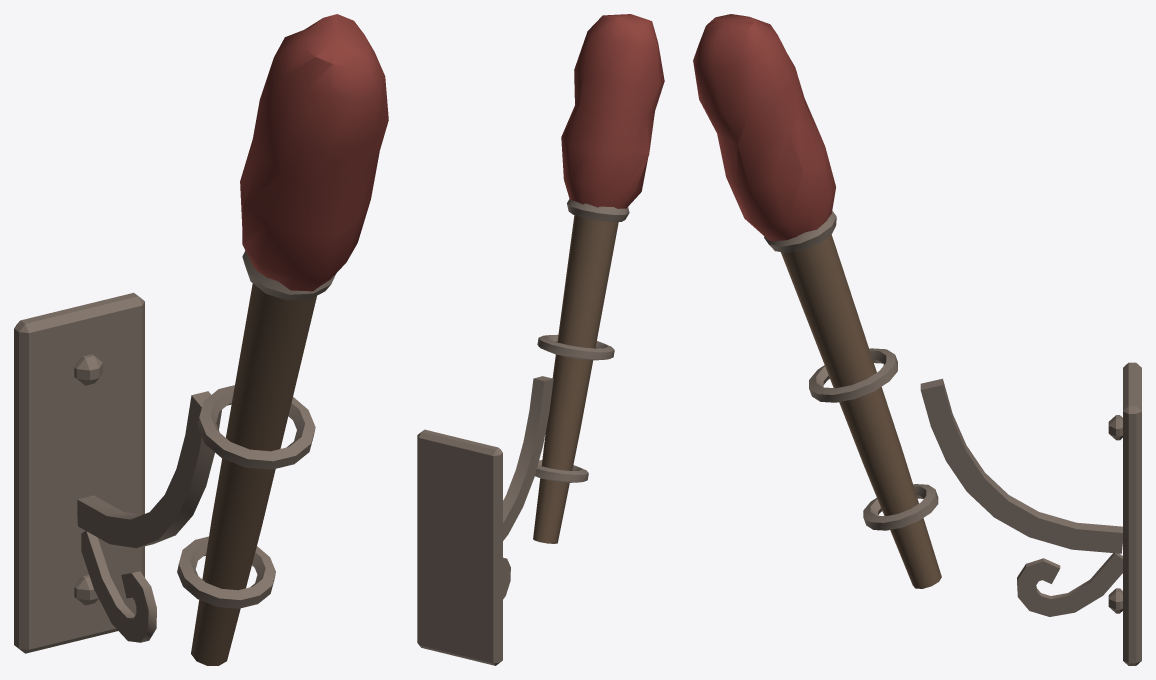
Rendered from torch_sconce.glb.
3 renders of one model, left to right at view 1: azimuth 30°, elevation 25°; view 2: azimuth 150°, elevation 25°; view 3: azimuth 270°, elevation 25°, orthographic. The views are drawn at different scales.
Visible parts, largest first — view 1: torch_sconce; view 2: torch_sconce; view 3: torch_sconce.
Part boxes in pixels (bbox=[...]): torch_sconce: bbox=[14, 14, 388, 665]; torch_sconce: bbox=[417, 14, 664, 665]; torch_sconce: bbox=[693, 14, 1141, 665].
Bounding box in the file's own units: 0.12 × 0.724 × 0.4698.
